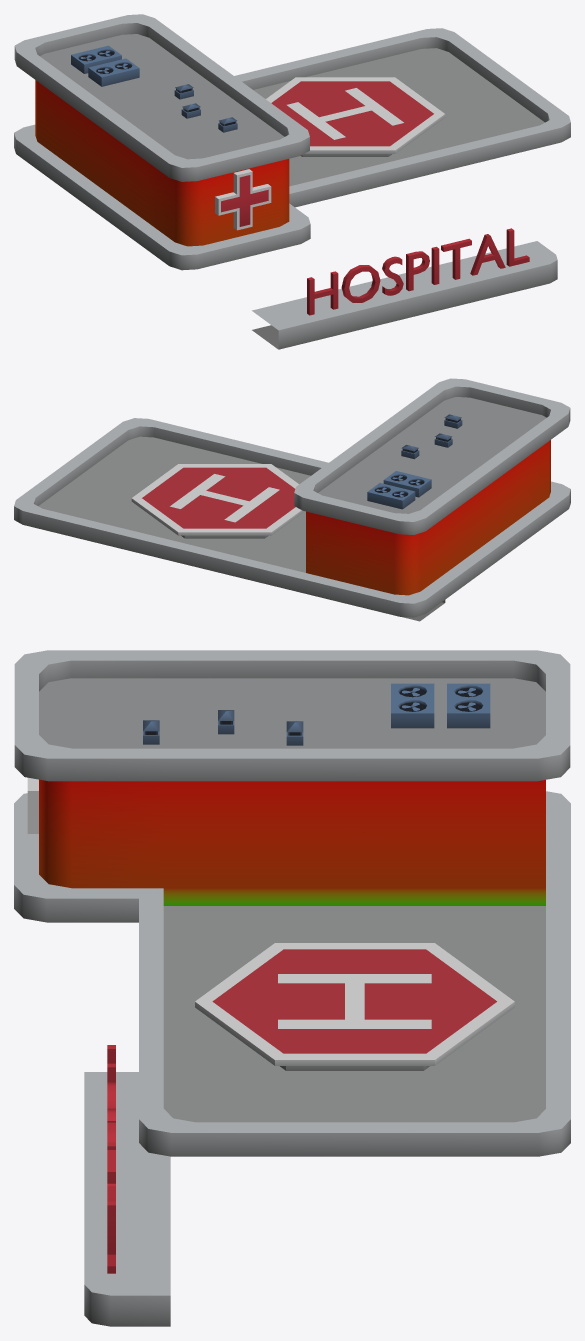
Rendered from Hospital_roof.fbx.
3 views of the same model, one above another, from view 1: azimuth 30°, elevation 25°; view 2: azimuth 150°, elevation 25°; view 3: azimuth 270°, elevation 25° (orthographic). The views are drawn at different scales.
Visible parts, largest first — view 1: Cube.008; view 2: Cube.008; view 3: Cube.008.
Part boxes in pixels (left/top/right/bottom): Cube.008: left=14, top=14, right=570, bottom=349; Cube.008: left=14, top=378, right=570, bottom=621; Cube.008: left=14, top=650, right=570, bottom=1326.
Bounding box in the file's own units: 390 × 190 × 268.
